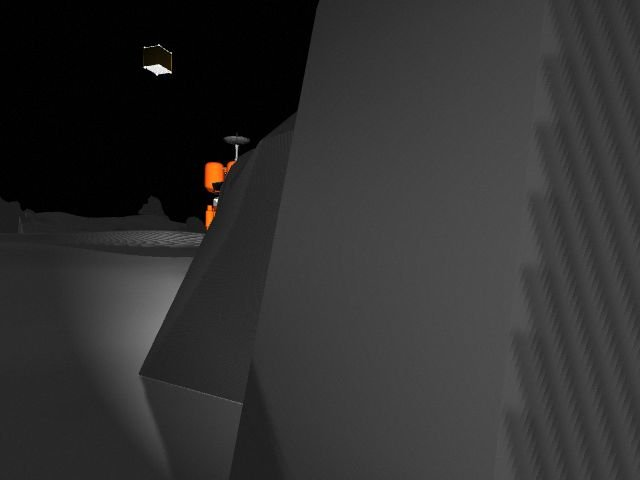cubesat: (137, 42, 185, 81)
